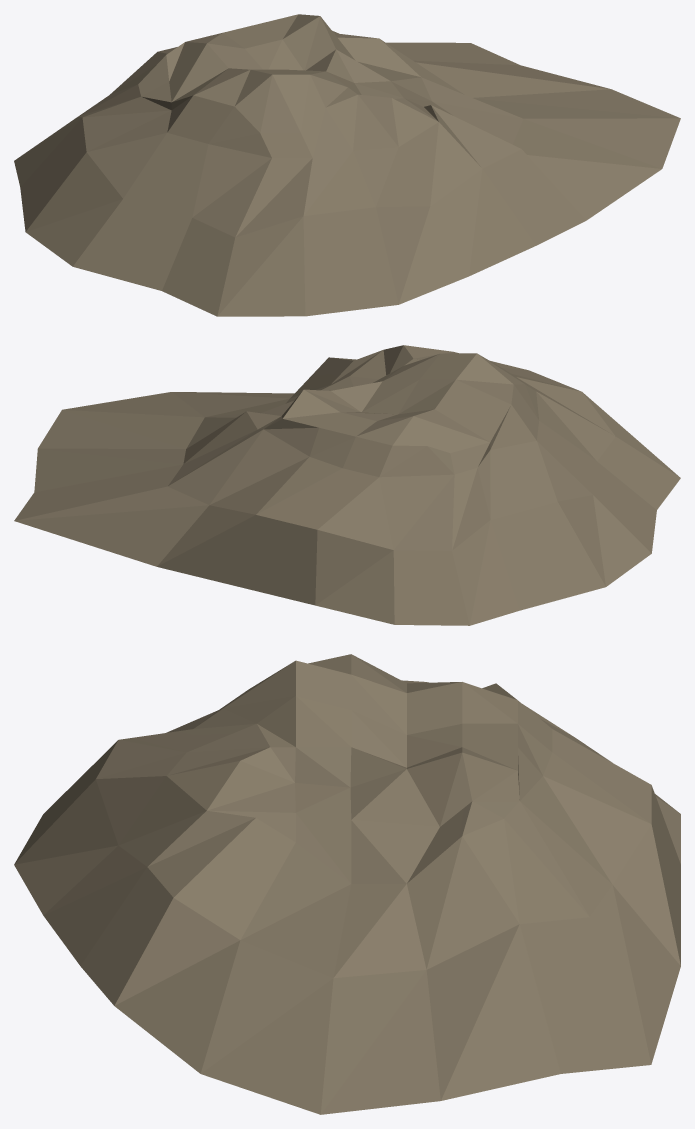
Rendered from Hill_01.glb.
The picture shows the model from 3 angles, top to bottom: view 1: azimuth 30°, elevation 25°; view 2: azimuth 150°, elevation 25°; view 3: azimuth 270°, elevation 25°; orthographic projection. The views are drawn at different scales.
Parts seen in each view (by area): view 1: Hill_temperate_climate_001; view 2: Hill_temperate_climate_001; view 3: Hill_temperate_climate_001.
Part boxes in pixels (bbox=[...]): Hill_temperate_climate_001: bbox=[14, 14, 680, 316]; Hill_temperate_climate_001: bbox=[14, 345, 680, 625]; Hill_temperate_climate_001: bbox=[14, 654, 680, 1114].
Bounding box in the file's own units: 34.22 × 8.23 × 25.55.
Materials: 1 (1 with a texture image).
